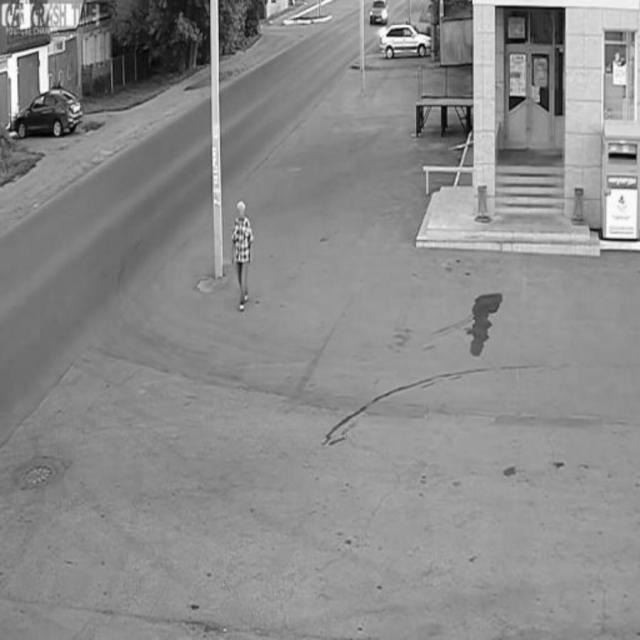person: (232, 203, 254, 307)
vehicle: (10, 92, 86, 140), (380, 23, 432, 59), (366, 0, 390, 28)
